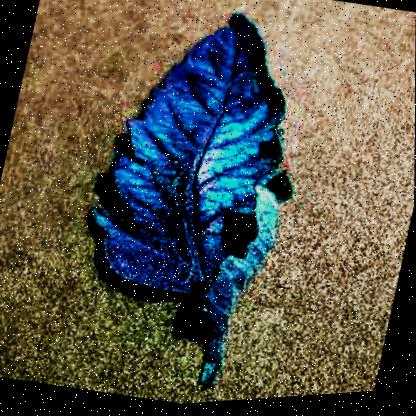Virus: (49, 0, 327, 408)
